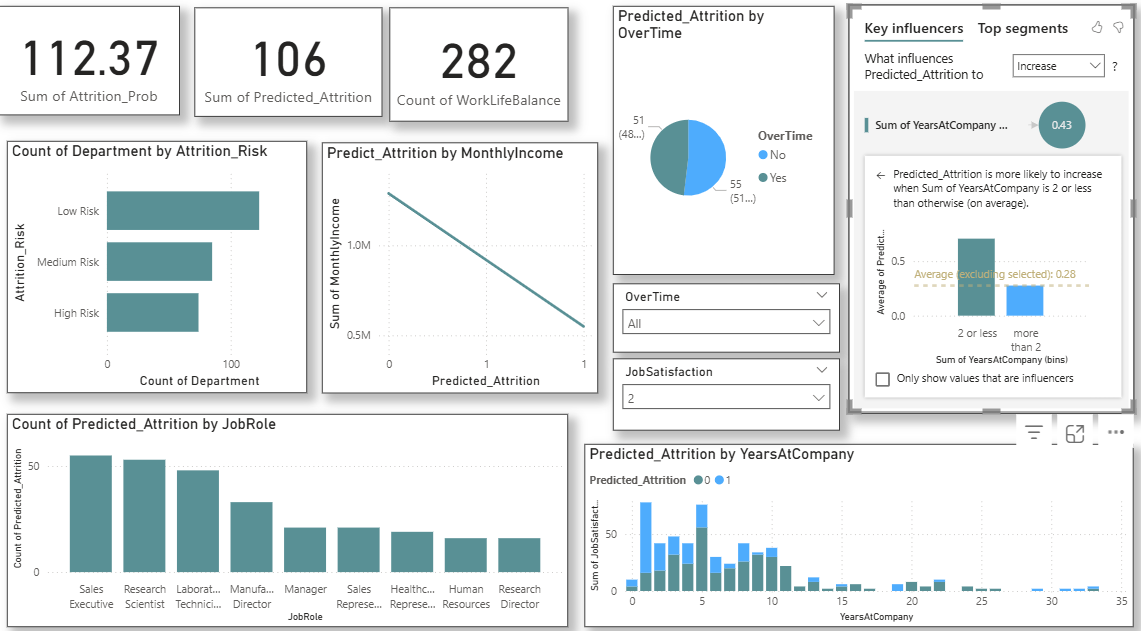

This screenshot's page, from the dashboard's own definition file:
{"tool":"powerbi","page":{"name":"Page 1","canvas":[1280,720],"ordinal":0},"visuals":[{"type":"card","fields":{"Values":["Sum(employee_attrition.Attrition_Prob)"]},"box":[6.3,12.6,202.1,121.6],"z":0},{"type":"card","fields":{"Values":["Sum(employee_attrition.Predicted_Attrition)"]},"box":[224.2,14.2,208.4,121.6],"z":1},{"type":"card","fields":{"Values":["CountNonNull(employee_attrition.WorkLifeBalance)"]},"box":[441.7,15,198.3,126.7],"z":2},{"type":"barChart","fields":{"Y":["CountNonNull(employee_attrition.Department)"],"Category":["employee_attrition.Attrition_Risk"]},"box":[16.7,163.3,333.3,280],"z":3},{"type":"clusteredColumnChart","fields":{"Y":["CountNonNull(employee_attrition.Predicted_Attrition)"],"Category":["employee_attrition.JobRole"]},"box":[16.7,466.7,623.3,236.7],"z":4},{"type":"pieChart","title":"Predicted_Attrition by OverTime","fields":{"Category":["employee_attrition.OverTime"],"Y":["Sum(employee_attrition.Predicted_Attrition)"]},"box":[690,12.6,246.3,298.4],"z":5},{"type":"lineStackedColumnComboChart","title":"Predicted_Attrition by YearsAtCompany","fields":{"Category":["employee_attrition.YearsAtCompany"],"Series":["employee_attrition.Predicted_Attrition"],"Y":["Sum(employee_attrition.JobSatisfaction)"]},"box":[658.3,500,610,203.3],"z":6},{"type":"lineChart","title":"Predict_Attrition by MonthlyIncome","fields":{"Y":["Sum(employee_attrition.MonthlyIncome)"],"Category":["employee_attrition.Predicted_Attrition"]},"box":[366.7,165,306.7,278.3],"z":7},{"type":"slicer","fields":{"Values":["employee_attrition.OverTime"]},"box":[690,321.7,251.7,76.7],"z":8},{"type":"slicer","fields":{"Values":["employee_attrition.JobSatisfaction"]},"box":[690,405,251.7,80],"z":9},{"type":"keyDriversVisual","fields":{"Target":["employee_attrition.Predicted_Attrition"],"ExplainBy":["Sum(employee_attrition.JobSatisfaction)","Sum(employee_attrition.YearsAtCompany)"]},"box":[952.1,11.1,317.4,454.7],"z":10}]}

Visuals, with their boxes in screenshot pixels (x1, y1, x2, y2), scaled from the page's 1280x720 canvas onto the 1141x631 screenshot:
card - Sum(employee_attrition.Attrition_Prob): detection(6, 11, 186, 118)
card - Sum(employee_attrition.Predicted_Attrition): detection(200, 12, 386, 119)
card - CountNonNull(employee_attrition.WorkLifeBalance): detection(394, 13, 570, 124)
barChart - CountNonNull(employee_attrition.Department) x employee_attrition.Attrition_Risk: detection(15, 143, 312, 389)
clusteredColumnChart - CountNonNull(employee_attrition.Predicted_Attrition) x employee_attrition.JobRole: detection(15, 409, 570, 616)
"Predicted_Attrition by OverTime" pieChart: detection(615, 11, 835, 273)
"Predicted_Attrition by YearsAtCompany" lineStackedColumnComboChart: detection(587, 438, 1131, 616)
"Predict_Attrition by MonthlyIncome" lineChart: detection(327, 145, 600, 389)
slicer - employee_attrition.OverTime: detection(615, 282, 839, 349)
slicer - employee_attrition.JobSatisfaction: detection(615, 355, 839, 425)
keyDriversVisual - employee_attrition.Predicted_Attrition x Sum(employee_attrition.JobSatisfaction): detection(849, 10, 1132, 408)
